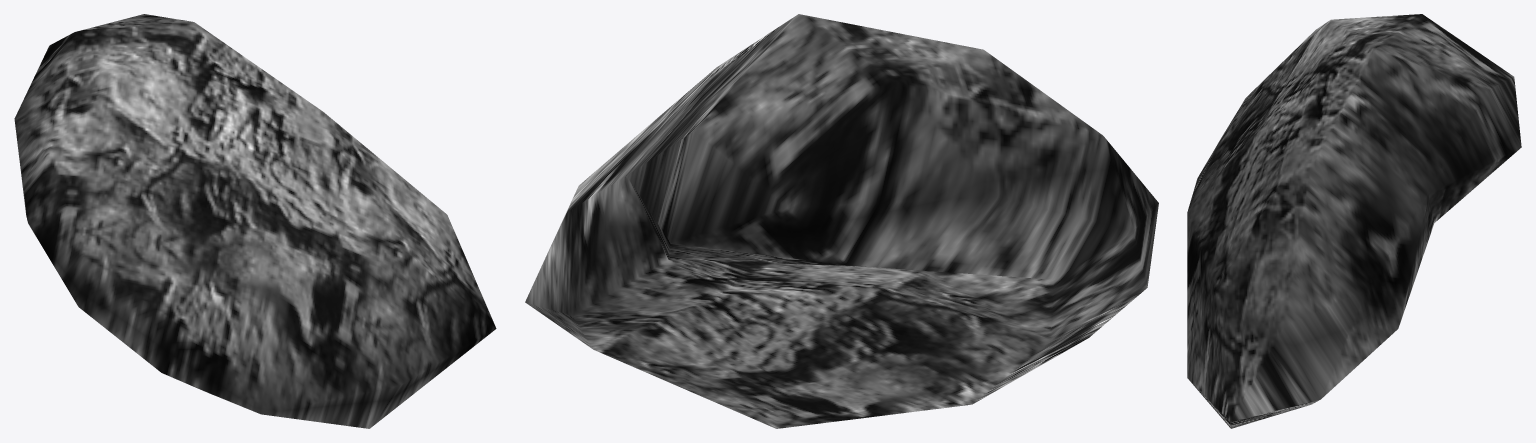
File: Stone03.obj
3 renders of one model, left to right at view 1: azimuth 30°, elevation 25°; view 2: azimuth 150°, elevation 25°; view 3: azimuth 270°, elevation 25°, orthographic. The views are drawn at different scales.
Parts seen in each view (by area): view 1: Mesh_0; view 2: Mesh_0; view 3: Mesh_0.
Part boxes in pixels (box(x1,y1,x2,y2)): Mesh_0: box(14, 14, 496, 428); Mesh_0: box(525, 14, 1158, 428); Mesh_0: box(1187, 14, 1521, 428).
Bounding box in the file's own units: 2.31 × 1.95 × 1.75.
Materials: 1 (1 with a texture image).
